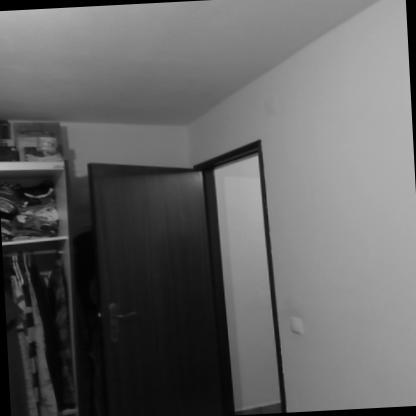open: (59, 126, 289, 416)
